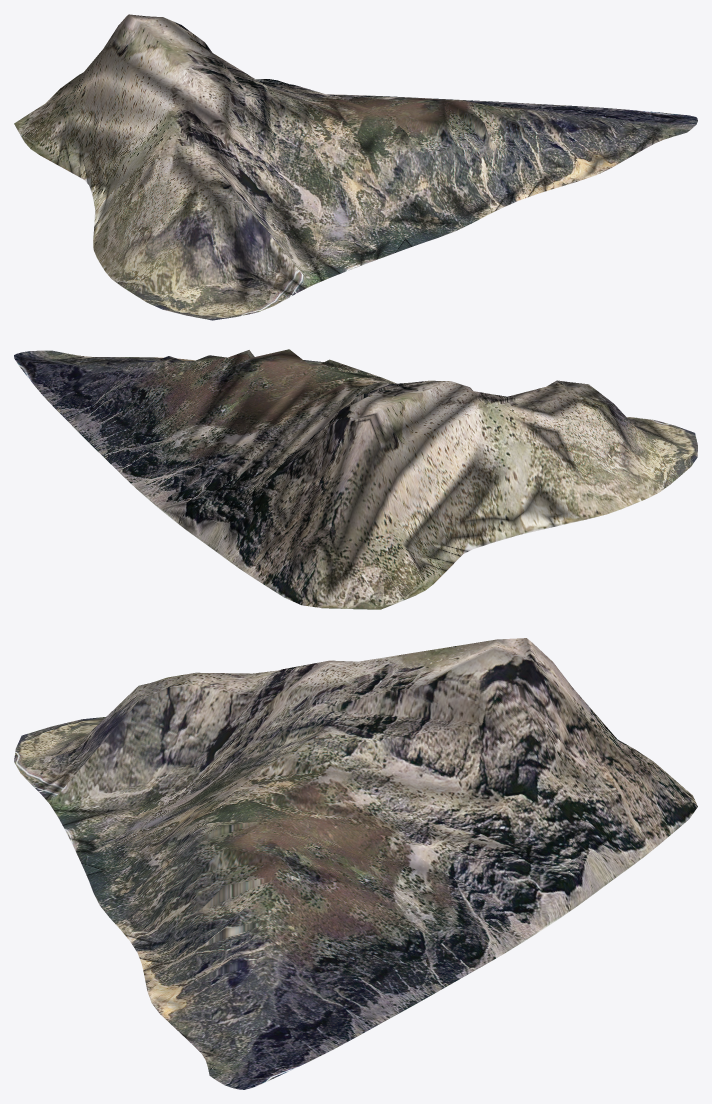
File: mountain_OBJ.obj
3 renders of one model, top to bottom at view 1: azimuth 30°, elevation 25°; view 2: azimuth 150°, elevation 25°; view 3: azimuth 270°, elevation 25°, orthographic. The views are drawn at different scales.
Parts seen in each view (by area): view 1: mountain; view 2: mountain; view 3: mountain.
Boxes of the visible parts, x1=… form: mountain: x1=14, y1=14, x2=697, y2=320; mountain: x1=14, y1=349, x2=697, y2=609; mountain: x1=14, y1=638, x2=697, y2=1089.
Bounding box in the file's own units: 9719 × 2060 × 7490.
1 material, 1 textured.
